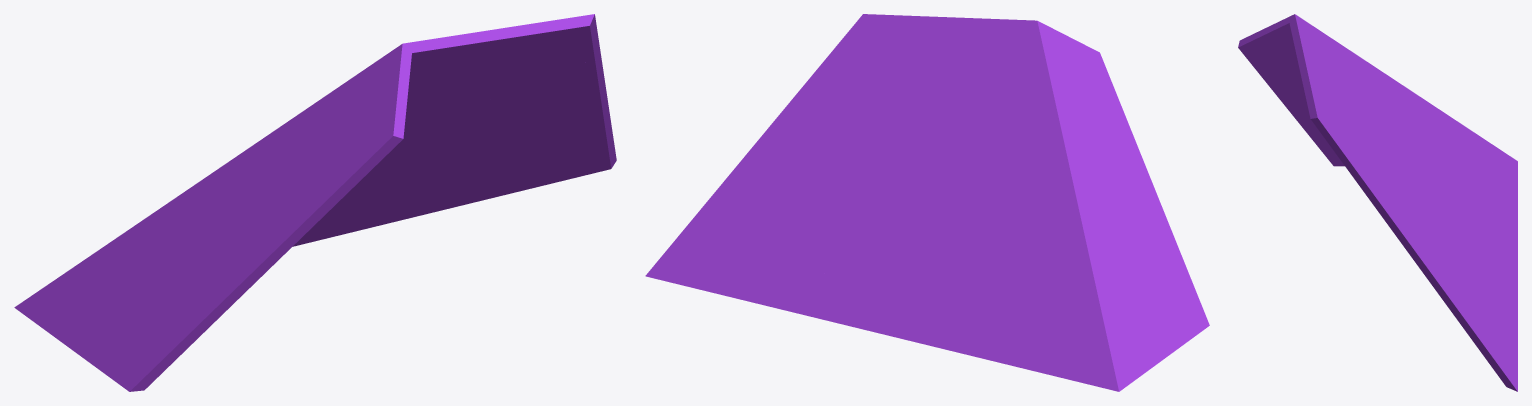
Rendered from Window_26_0_chunks.fbx.
3 views of the same model, side by side, from view 1: azimuth 30°, elevation 25°; view 2: azimuth 150°, elevation 25°; view 3: azimuth 270°, elevation 25° (orthographic). The views are drawn at different scales.
Visible parts, largest first — view 1: Window_26_0_9, Window_26_0_12, Window_26_0_1, Window_26_0_3, Window_26_0_7, Window_26_0_6, Window_26_0_8, Window_26_0_5, Window_26_0_4, Window_26_0_10, Window_26_0_0, Window_26_0_2 (+1 smaller); view 2: Window_26_0_0, Window_26_0_12, Window_26_0_7, Window_26_0_3, Window_26_0_9, Window_26_0_6, Window_26_0_11, Window_26_0_8, Window_26_0_4, Window_26_0_10, Window_26_0_2, Window_26_0_5 (+1 smaller); view 3: Window_26_0_0, Window_26_0_7, Window_26_0_3, Window_26_0_12, Window_26_0_6, Window_26_0_8, Window_26_0_11, Window_26_0_1, Window_26_0_4, Window_26_0_9, Window_26_0_5, Window_26_0_2 (+1 smaller).
Boxes of the visible parts, bbox=[...] form: Window_26_0_9: bbox=[134, 141, 325, 387]; Window_26_0_12: bbox=[14, 173, 215, 350]; Window_26_0_1: bbox=[305, 54, 411, 214]; Window_26_0_3: bbox=[429, 14, 599, 108]; Window_26_0_7: bbox=[508, 82, 616, 194]; Window_26_0_6: bbox=[292, 129, 495, 246]; Window_26_0_8: bbox=[448, 47, 604, 142]; Window_26_0_5: bbox=[368, 139, 510, 228]; Window_26_0_4: bbox=[326, 29, 495, 100]; Window_26_0_10: bbox=[74, 306, 150, 391]; Window_26_0_0: bbox=[335, 94, 497, 205]; Window_26_0_2: bbox=[292, 89, 439, 163]; Window_26_0_0: bbox=[852, 98, 1026, 352]; Window_26_0_12: bbox=[1020, 202, 1165, 391]; Window_26_0_7: bbox=[645, 135, 813, 300]; Window_26_0_3: bbox=[814, 14, 958, 119]; Window_26_0_9: bbox=[1078, 127, 1207, 320]; Window_26_0_6: bbox=[809, 169, 904, 339]; Window_26_0_11: bbox=[973, 126, 1086, 309]; Window_26_0_8: bbox=[763, 73, 867, 194]; Window_26_0_4: bbox=[953, 17, 1057, 93]; Window_26_0_10: bbox=[958, 288, 1209, 373]; Window_26_0_2: bbox=[932, 92, 1095, 144]; Window_26_0_5: bbox=[745, 213, 835, 322]; Window_26_0_0: bbox=[1372, 87, 1517, 265]; Window_26_0_7: bbox=[1408, 244, 1517, 391]; Window_26_0_3: bbox=[1299, 64, 1373, 180]; Window_26_0_12: bbox=[1404, 86, 1517, 197]; Window_26_0_6: bbox=[1416, 198, 1517, 298]; Window_26_0_8: bbox=[1356, 169, 1439, 252]; Window_26_0_11: bbox=[1359, 56, 1487, 206]; Window_26_0_1: bbox=[1238, 17, 1300, 82]; Window_26_0_4: bbox=[1288, 14, 1353, 101]; Window_26_0_9: bbox=[1267, 76, 1339, 162]; Window_26_0_5: bbox=[1452, 257, 1517, 342]; Window_26_0_2: bbox=[1339, 43, 1375, 130].
Size of the model in its own units: 1314 by 642 by 674.
